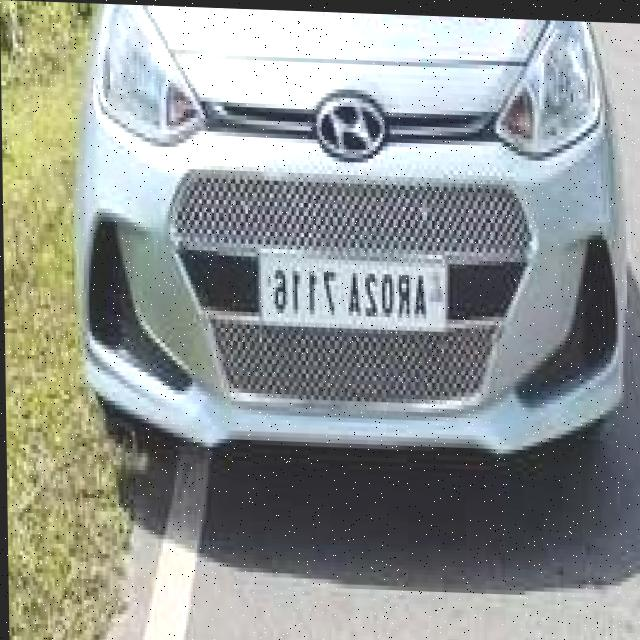plate: (255, 247, 447, 331)
